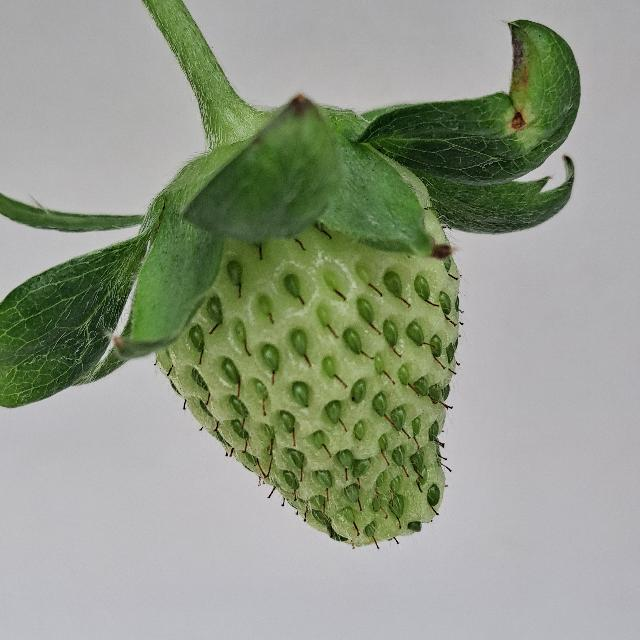Health_25: (154, 144, 460, 546)
